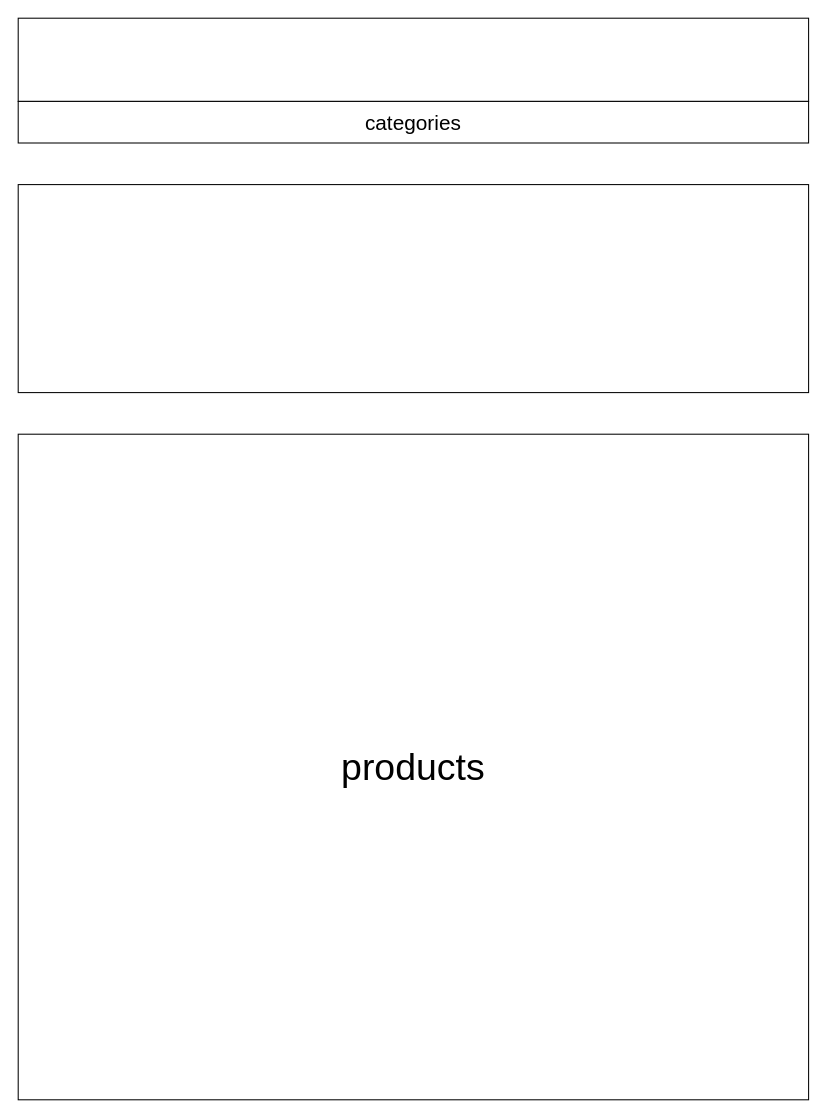
The diagram is 827 pixels wide and 1118 high, and some of its shapes have lost their labels. The centre of each missing label's shape, as x and y in pixels:
"site title" belongs at (x=413, y=59).
"spotlight" belongs at (x=413, y=288).
